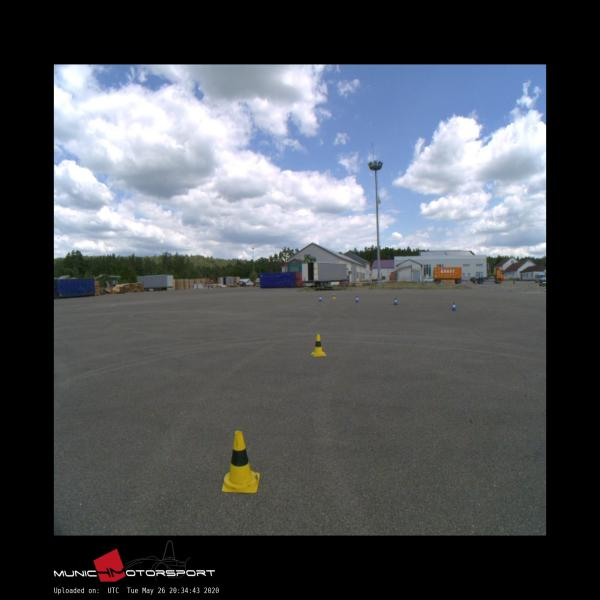blue_cone: (452, 302, 456, 311), (355, 295, 359, 303), (394, 298, 398, 305), (318, 295, 322, 301)
yellow_cone: (222, 431, 259, 492), (310, 334, 325, 356), (332, 293, 336, 299)
